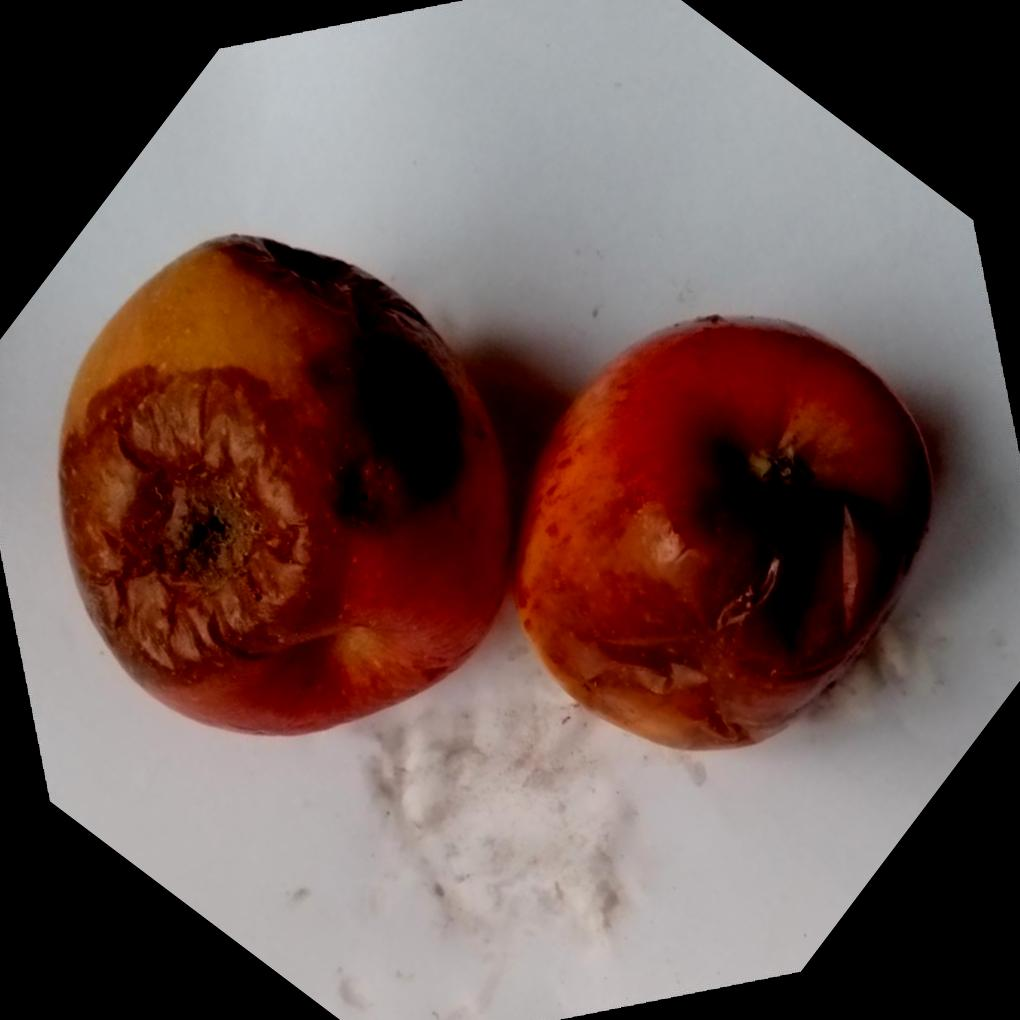FreshOrange: (56, 235, 931, 753)
